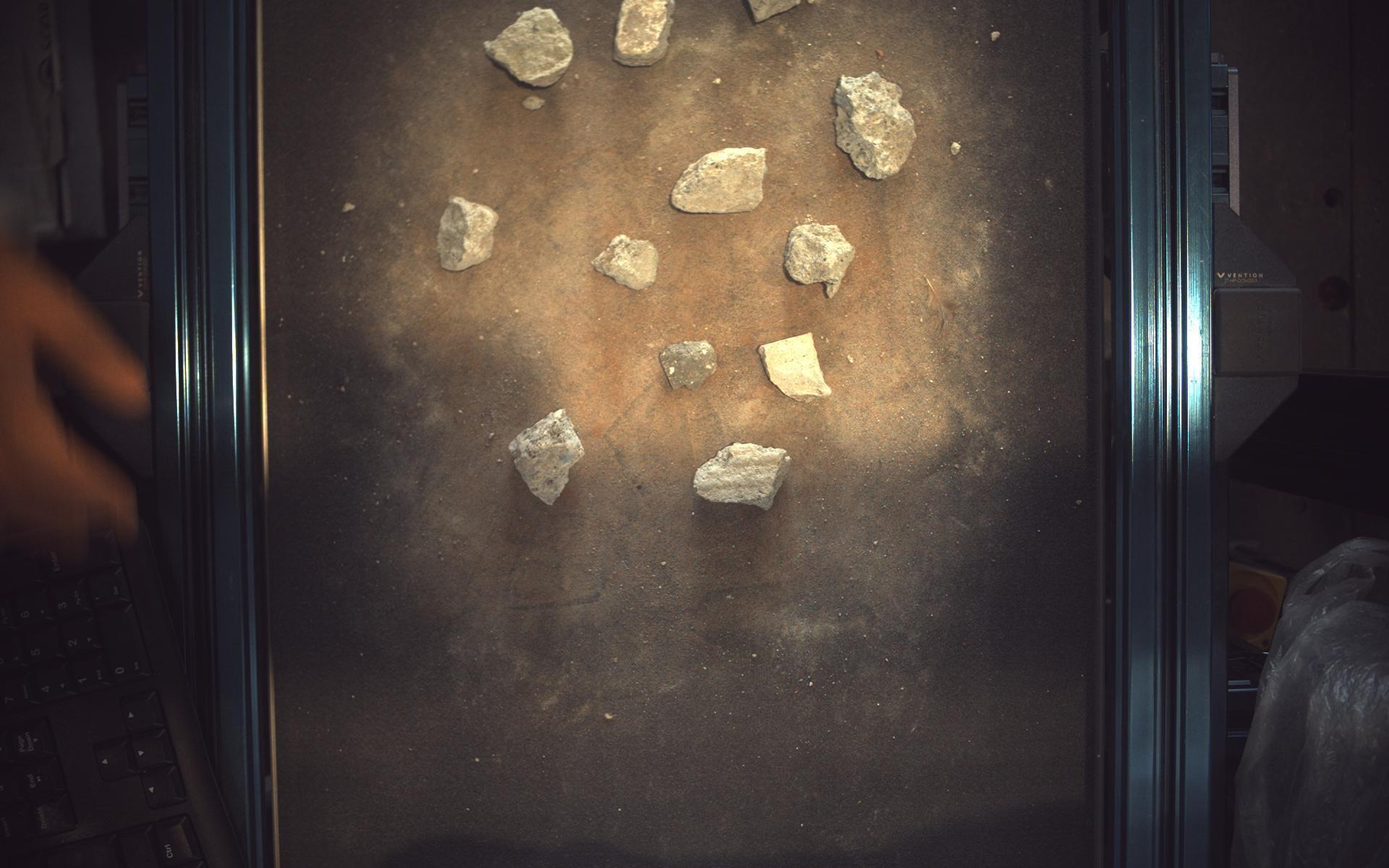concrete: (836, 71, 917, 179), (509, 409, 585, 506), (484, 6, 574, 86), (694, 443, 792, 510), (673, 147, 768, 213), (786, 218, 856, 297), (759, 333, 833, 401), (437, 195, 498, 271), (614, 1, 676, 65), (592, 234, 660, 290), (660, 340, 717, 389)
